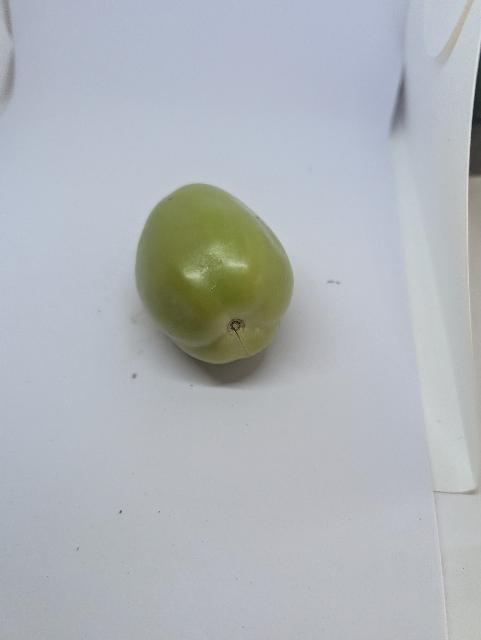green: (133, 181, 296, 366)
